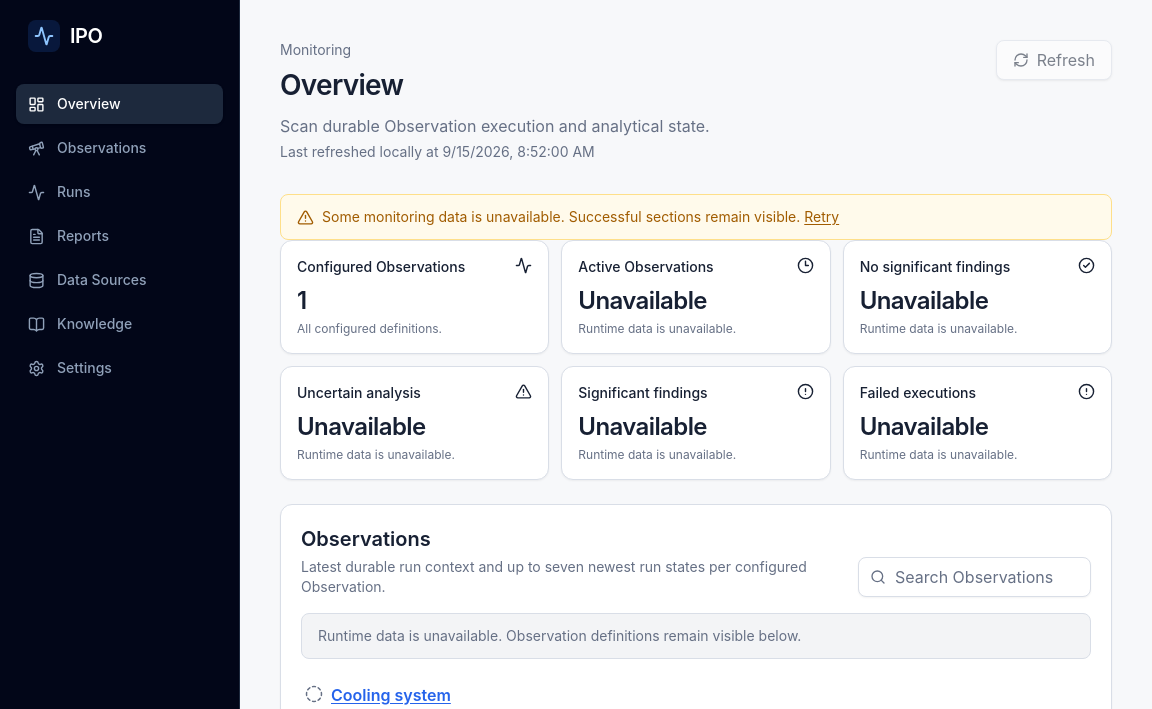
Test: Overview application integration › keeps each successful source visible through partial failure, supports retry, and never makes a mutation request
This screenshot has width=1152, height=709.
Expected: the message shows "Some monitoring data is unavailable. Successful sections remain visible.", [322,208,804,225]
Expected: the link "Cooling system" is shown, [331,685,451,705]
Step 1. Click the button "Retry" → (822, 217), box [804,207,839,227]
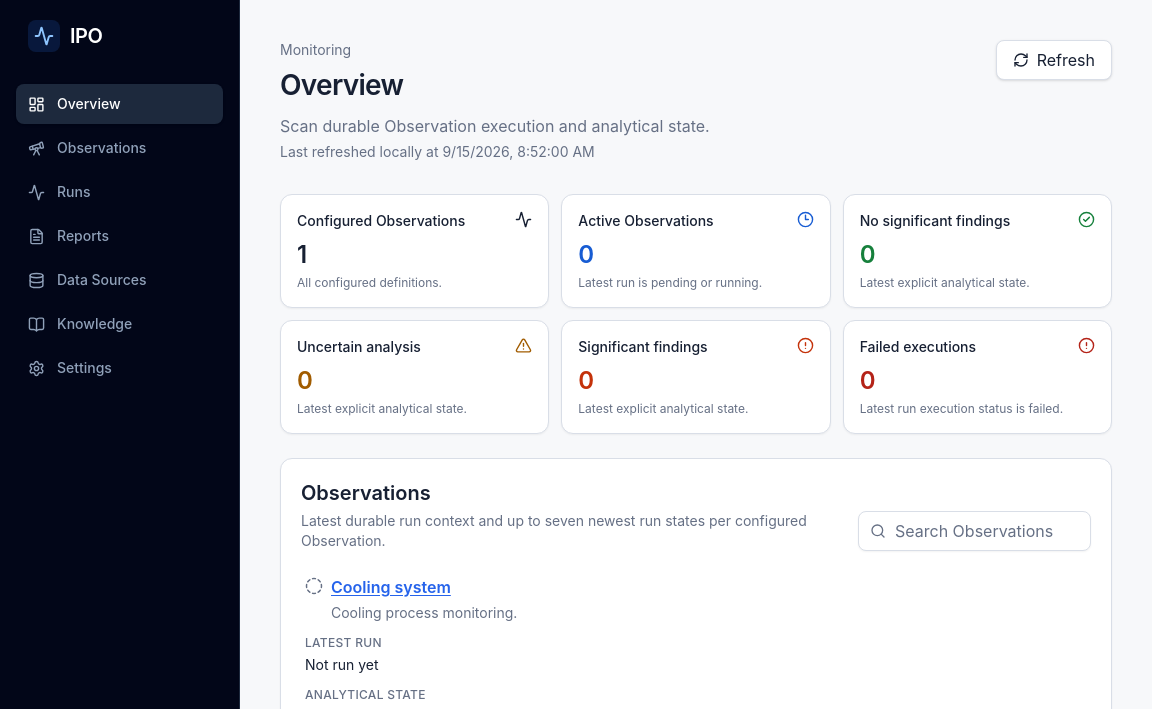
Now the text "Not run yet" is shown, box [305,656,379,673]
